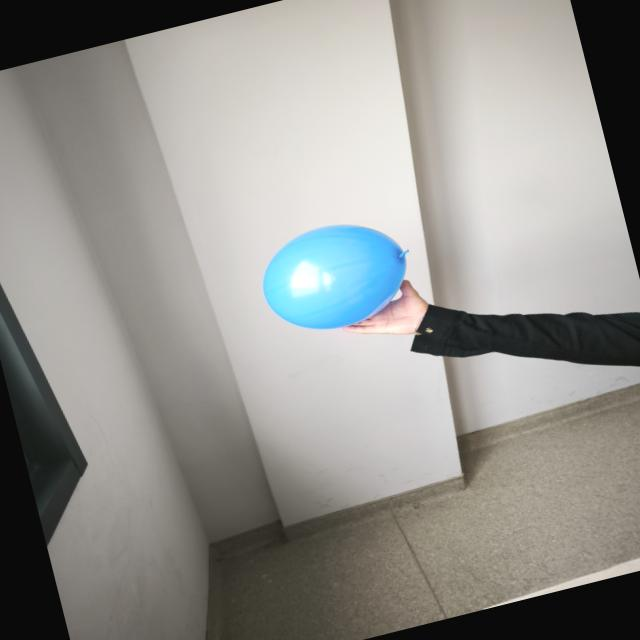balloon: (263, 224, 407, 328)
